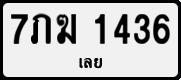letters: (30, 13, 52, 45), (55, 13, 77, 45), (9, 13, 29, 45), (152, 14, 171, 45), (113, 13, 131, 45), (133, 13, 151, 44), (94, 12, 106, 45)
province: (76, 56, 104, 69)
